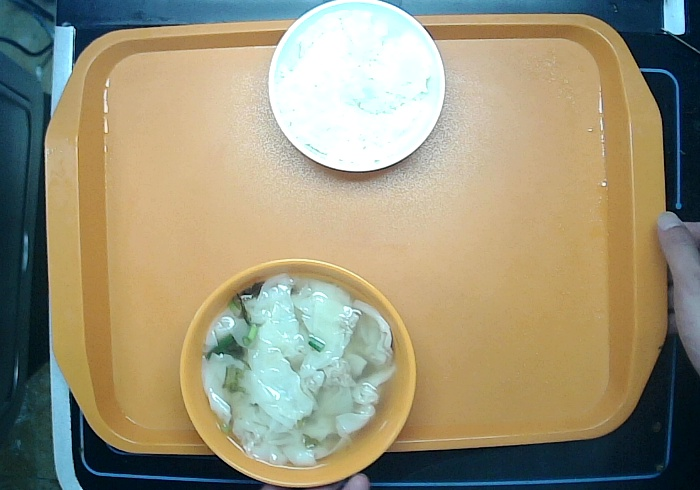NLDX-Fan_Wan: (268, 1, 453, 183)
NLDX-Hun_Tun_Wan: (166, 241, 417, 490)
